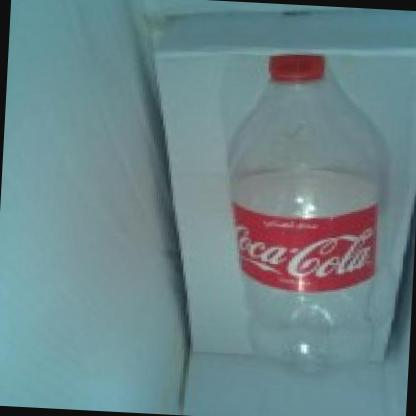plastic_bottles: (212, 38, 401, 385)
